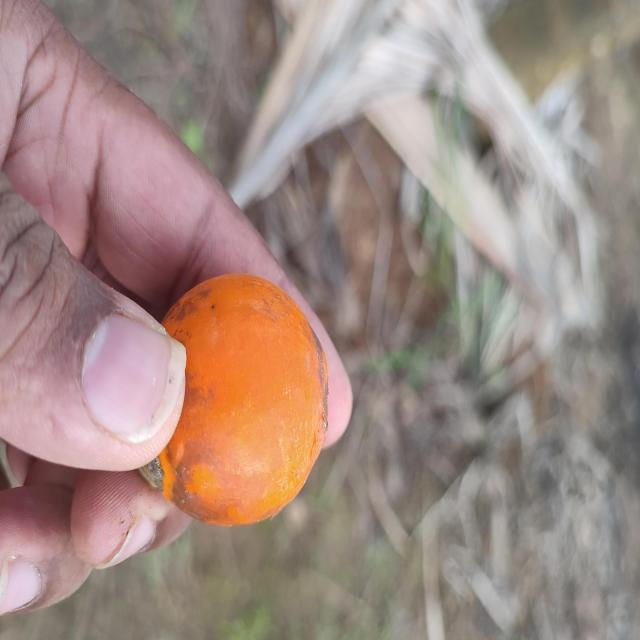good: (140, 273, 352, 529)
